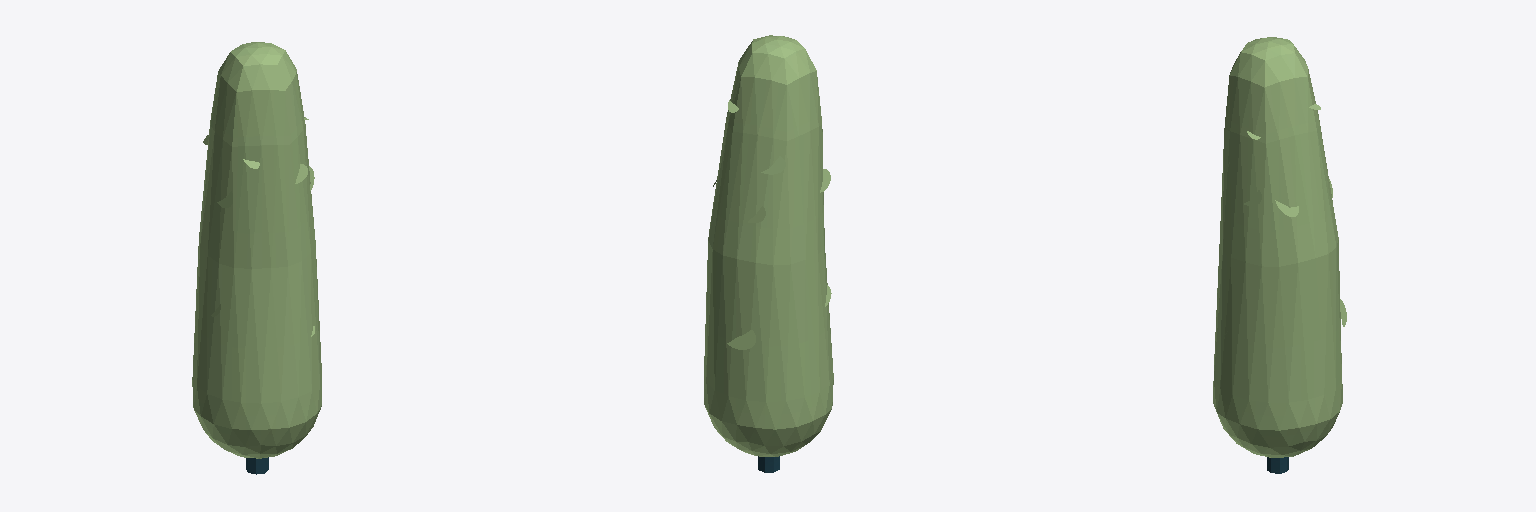
3 renders of one model, left to right at view 1: azimuth 30°, elevation 25°; view 2: azimuth 150°, elevation 25°; view 3: azimuth 270°, elevation 25°, orthographic.
Parts seen in each view (by area): view 1: Tree3_Material; view 2: Tree3_Material; view 3: Tree3_Material.
Part boxes in pixels (x1,y1,x2,y2): Tree3_Material: (192,42,321,474); Tree3_Material: (704,35,833,472); Tree3_Material: (1213,37,1346,473).
Size of the model in its own units: 1.74 by 6.3 by 1.79.
1 materials, 1 textured.